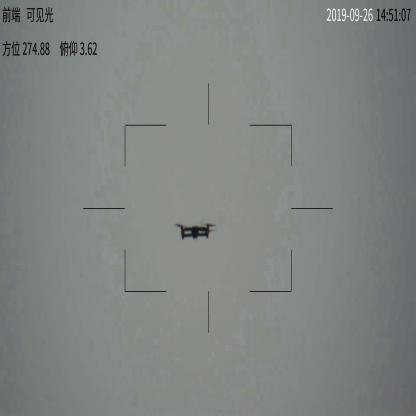uav: (174, 220, 216, 240)
